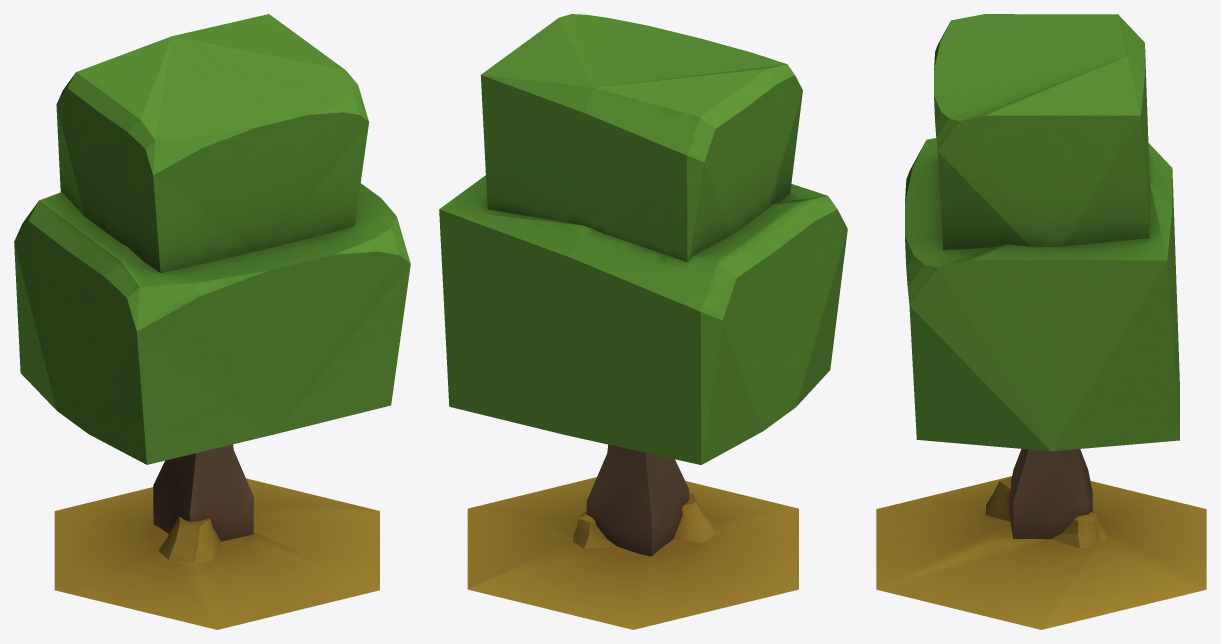
Rendered from shu3.FBX.
3 renders of one model, left to right at view 1: azimuth 30°, elevation 25°; view 2: azimuth 150°, elevation 25°; view 3: azimuth 270°, elevation 25°, orthographic.
Parts seen in each view (by area): view 1: FOL_Foliage_005; view 2: FOL_Foliage_005; view 3: FOL_Foliage_005.
Part boxes in pixels (x1,y1,x2,y2): FOL_Foliage_005: (14, 14, 410, 629); FOL_Foliage_005: (439, 14, 847, 629); FOL_Foliage_005: (876, 14, 1206, 629).
Size of the model in its own units: 3.06 by 4.36 by 2.65.
